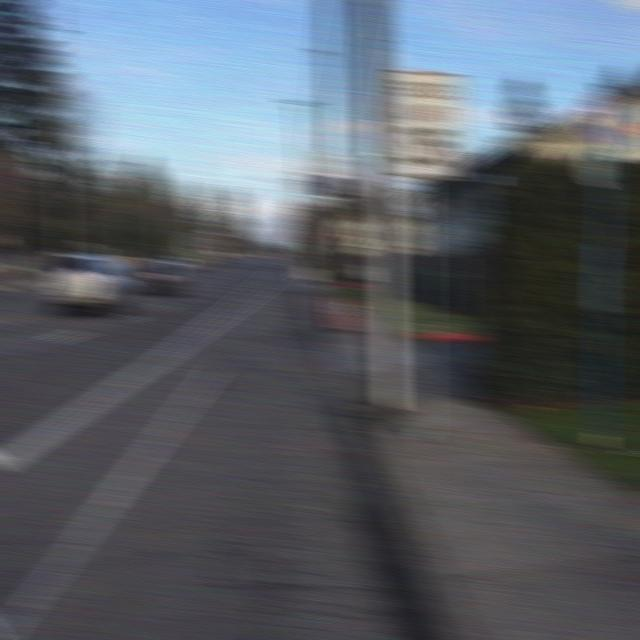speedLimit35: (391, 68, 461, 172)
